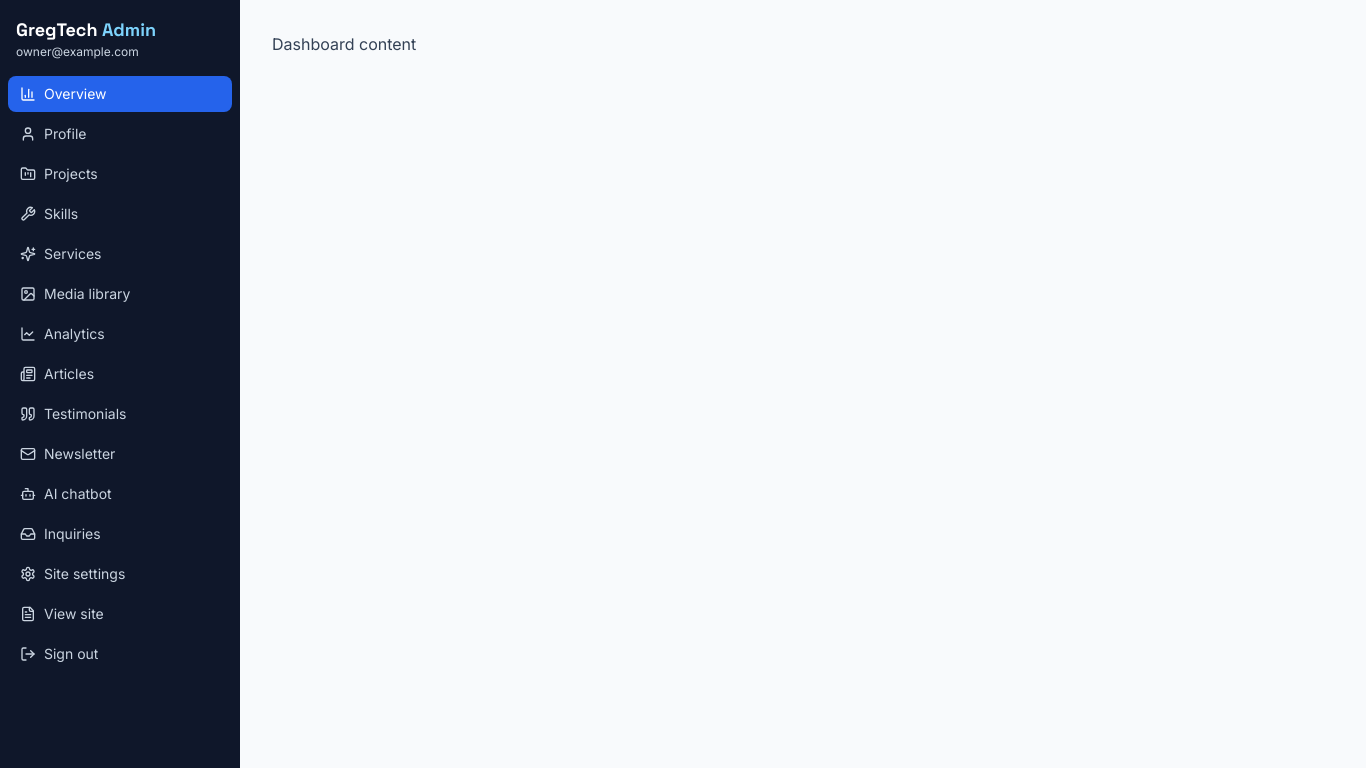
signing out leaves the dashboard immediately and ends up on the login page
The width and height of the screenshot is (1366, 768).
Click the button "Sign out" at (120, 654), box [8,636,232,672]
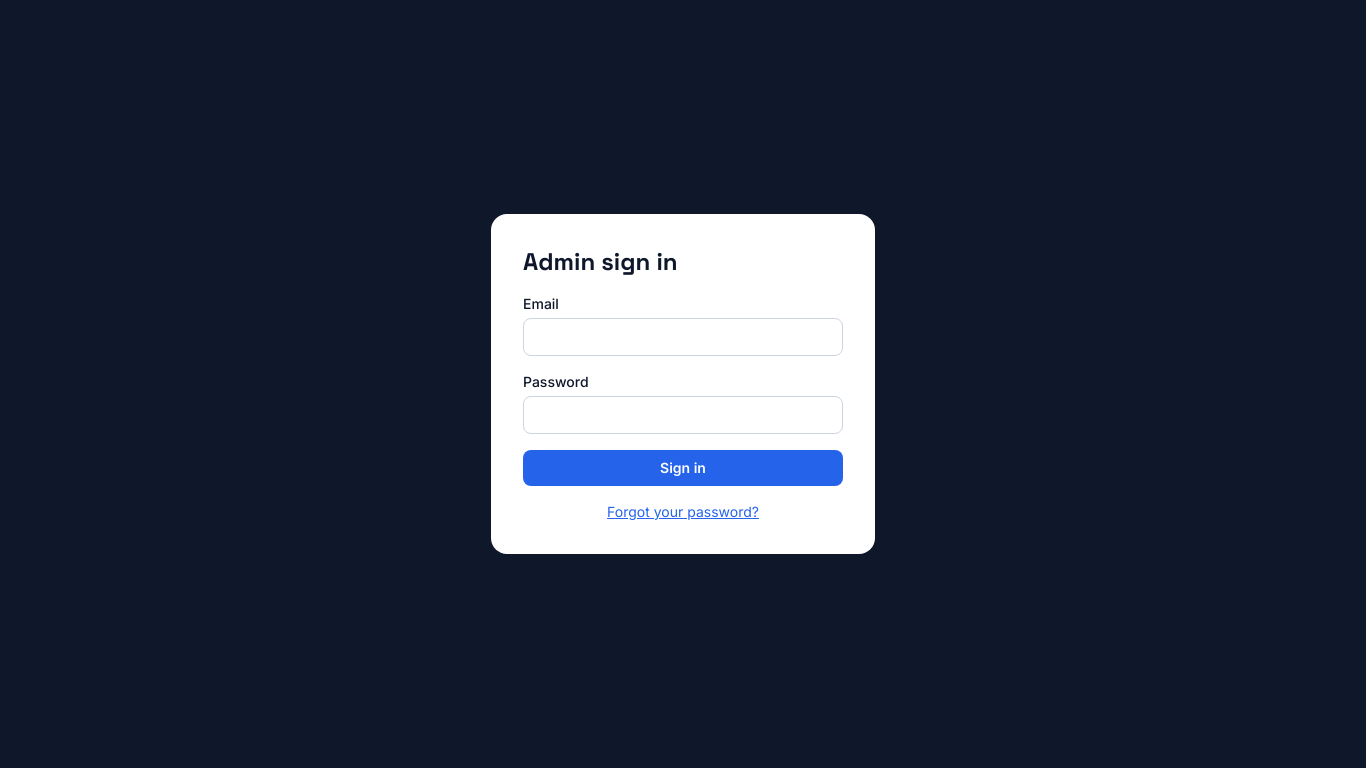
expect the heading "Admin sign in" is shown: met, box [523,246,678,277]
expect the text "Dashboard content" is gone: met
